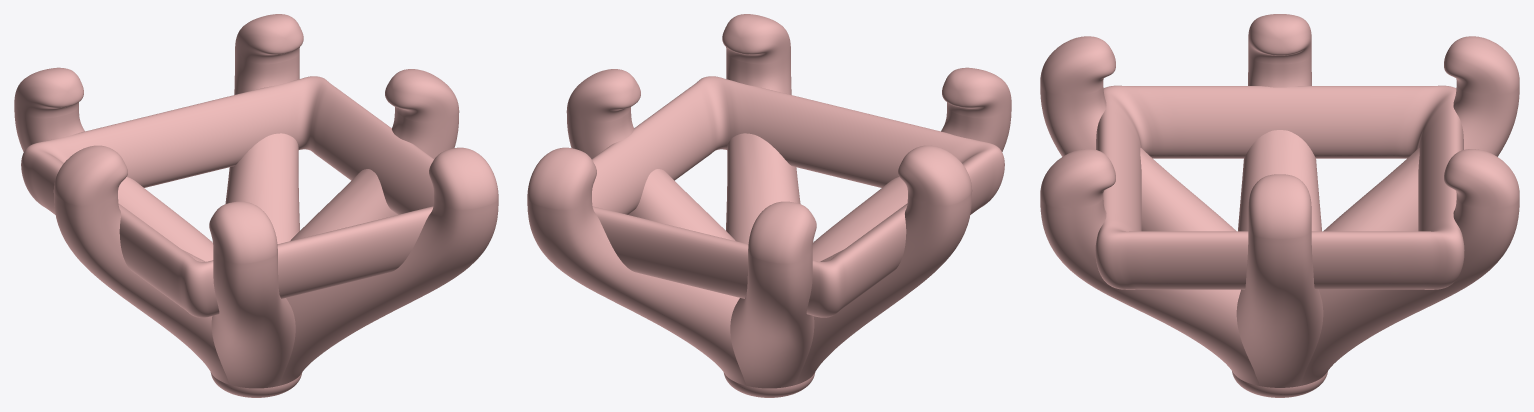
File: PRINCESS.glb
3 renders of one model, left to right at view 1: azimuth 30°, elevation 25°; view 2: azimuth 150°, elevation 25°; view 3: azimuth 270°, elevation 25°, orthographic. The views are drawn at different scales.
Visible parts, largest first — view 1: princess; view 2: princess; view 3: princess.
Part boxes in pixels (bbox=[...]): princess: bbox=[14, 14, 498, 397]; princess: bbox=[527, 14, 1011, 397]; princess: bbox=[1040, 14, 1519, 397].
Size of the model in its own units: 6.4 by 4.31 by 6.45.
